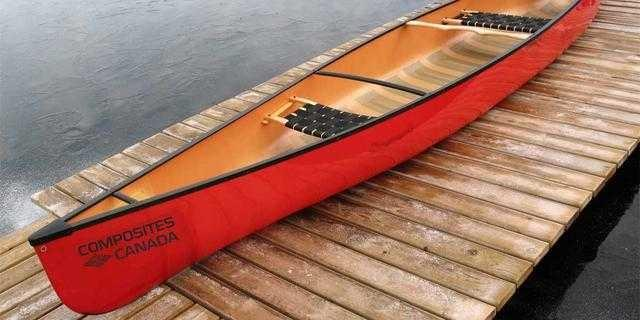kayak: (28, 0, 601, 319)
